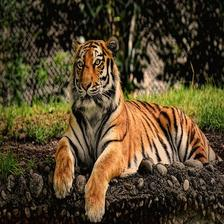tiger: (63, 35, 215, 197)
